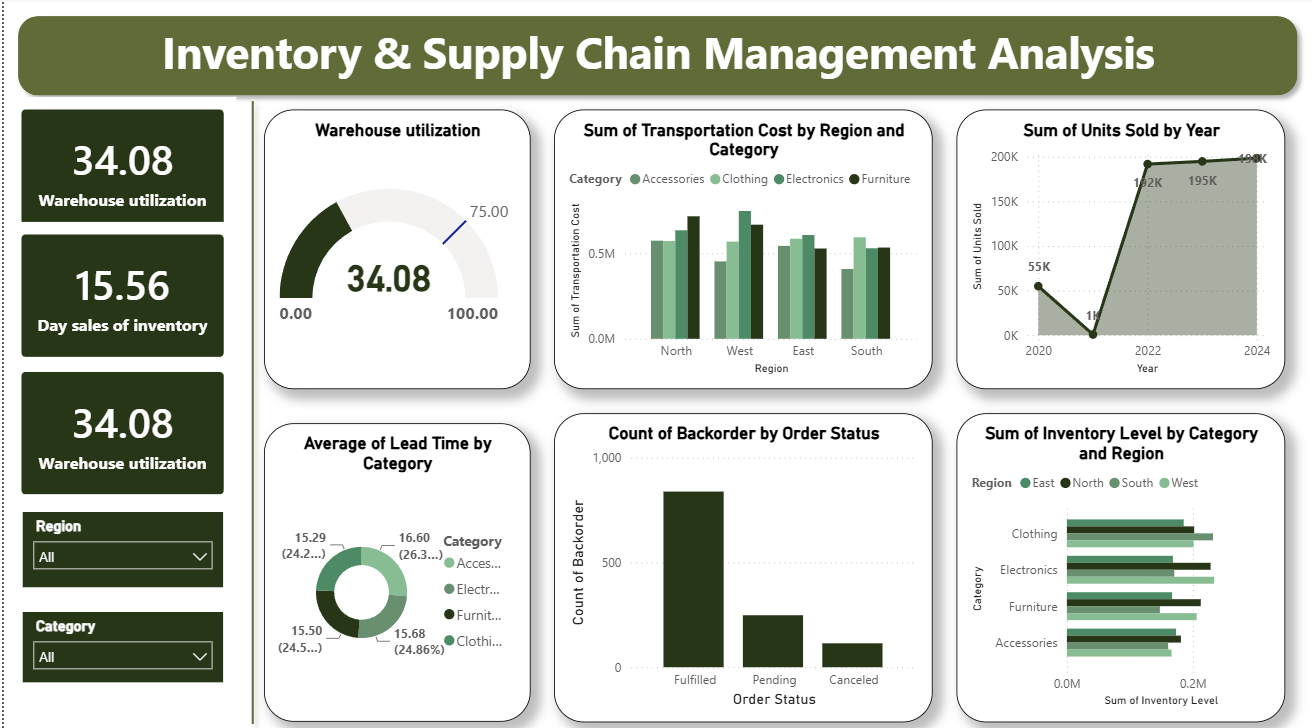

This screenshot's page, from the dashboard's own definition file:
{"tool":"powerbi","page":{"name":"Page 1","canvas":[1280,720],"ordinal":0},"visuals":[{"type":"shape","box":[4.9,9.8,1269.3,95.4],"z":0},{"type":"textbox","box":[26.9,19.6,1226.5,73.4],"z":1000},{"type":"shape","box":[232.3,92.9,22,627.3],"z":2000},{"type":"cardVisual","fields":{"Data":["Inventory_SupplyChain_Dataset.Warehouse utilization"]},"box":[0,92.9,232.3,154.1],"z":3000},{"type":"cardVisual","fields":{"Data":["Inventory_SupplyChain_Dataset.Day sales of inventory"]},"box":[0,215.2,232.3,154.1],"z":4000},{"type":"cardVisual","fields":{"Data":["Inventory_SupplyChain_Dataset.Warehouse utilization"]},"box":[0,349.7,232.3,154.1],"z":5000},{"type":"slicer","fields":{"Values":["Inventory_SupplyChain_Dataset.Region"]},"box":[18.3,503.8,195.7,73.4],"z":6000},{"type":"slicer","fields":{"Values":["Inventory_SupplyChain_Dataset.Category"]},"box":[18.3,601.6,195.7,68.5],"z":7000},{"type":"gauge","fields":{"Y":["Inventory_SupplyChain_Dataset.Warehouse utilization"]},"box":[254.3,110.1,260.5,273.9],"z":8000},{"type":"clusteredColumnChart","fields":{"Y":["Sum(Inventory_SupplyChain_Dataset.Transportation Cost)"],"Category":["Inventory_SupplyChain_Dataset.Region"],"Series":["Inventory_SupplyChain_Dataset.Category"]},"box":[538,110.1,370.5,273.9],"z":9000},{"type":"lineChart","fields":{"Y":["Sum(Inventory_SupplyChain_Dataset.Units Sold)"],"Category":["Inventory_SupplyChain_Dataset.Date.Variation.Date Hierarchy.Year"]},"box":[931.8,110.1,321.6,273.9],"z":10000},{"type":"donutChart","fields":{"Category":["Inventory_SupplyChain_Dataset.Category"],"Y":["Avg(Inventory_SupplyChain_Dataset.Lead Time (Days))"]},"box":[254.3,417,260.5,292.3],"z":10001},{"type":"columnChart","fields":{"Y":["CountNonNull(Inventory_SupplyChain_Dataset.Backorder)"],"Category":["Inventory_SupplyChain_Dataset.Order Status"]},"box":[538,407.2,370.5,302],"z":10002},{"type":"clusteredBarChart","fields":{"Category":["Inventory_SupplyChain_Dataset.Category"],"Y":["Sum(Inventory_SupplyChain_Dataset.Inventory Level)"],"Series":["Inventory_SupplyChain_Dataset.Region"]},"box":[931.8,407.2,321.6,302],"z":10003}]}

Visuals, with their boxes in screenshot pixels (x1, y1, x2, y2), scaled from the page's 1280x720 canvas onto the 1312x728 screenshot:
shape: <box>5,10,1306,106</box>
textbox: <box>28,20,1285,94</box>
shape: <box>238,94,261,727</box>
cardVisual - Inventory_SupplyChain_Dataset.Warehouse utilization: <box>0,94,238,250</box>
cardVisual - Inventory_SupplyChain_Dataset.Day sales of inventory: <box>0,218,238,373</box>
cardVisual - Inventory_SupplyChain_Dataset.Warehouse utilization: <box>0,354,238,509</box>
slicer - Inventory_SupplyChain_Dataset.Region: <box>19,509,219,584</box>
slicer - Inventory_SupplyChain_Dataset.Category: <box>19,608,219,678</box>
gauge - Inventory_SupplyChain_Dataset.Warehouse utilization: <box>261,111,528,388</box>
clusteredColumnChart - Sum(Inventory_SupplyChain_Dataset.Transportation Cost) x Inventory_SupplyChain_Dataset.Region: <box>551,111,931,388</box>
lineChart - Sum(Inventory_SupplyChain_Dataset.Units Sold) x Inventory_SupplyChain_Dataset.Date.Variation.Date Hierarchy.Year: <box>955,111,1285,388</box>
donutChart - Inventory_SupplyChain_Dataset.Category x Avg(Inventory_SupplyChain_Dataset.Lead Time (Days)): <box>261,422,528,717</box>
columnChart - CountNonNull(Inventory_SupplyChain_Dataset.Backorder) x Inventory_SupplyChain_Dataset.Order Status: <box>551,412,931,717</box>
clusteredBarChart - Inventory_SupplyChain_Dataset.Category x Sum(Inventory_SupplyChain_Dataset.Inventory Level): <box>955,412,1285,717</box>
